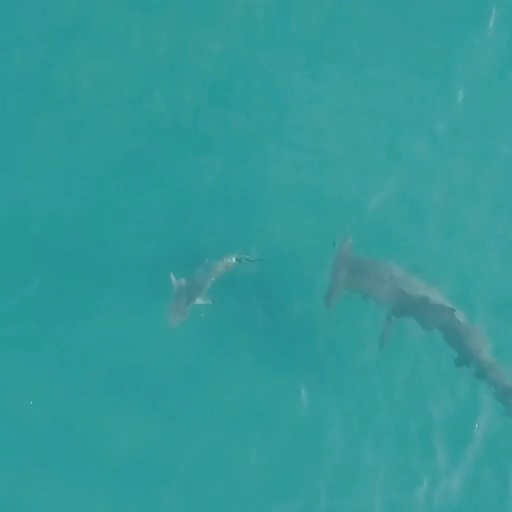shark: (321, 235, 512, 421)
